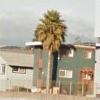Palm tree: (35, 8, 66, 84)
